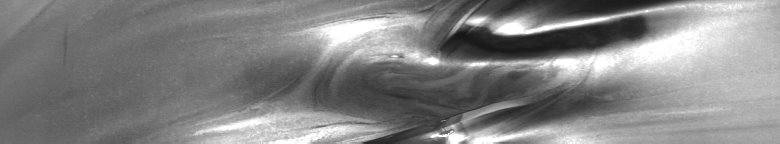ke: (316, 4, 665, 136)
